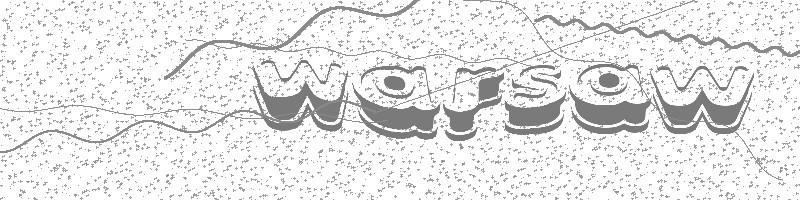a: (351, 63, 441, 137), (563, 62, 652, 136)
r: (442, 64, 504, 139)
s: (501, 59, 568, 136)
w: (647, 62, 757, 136), (245, 56, 352, 132)
